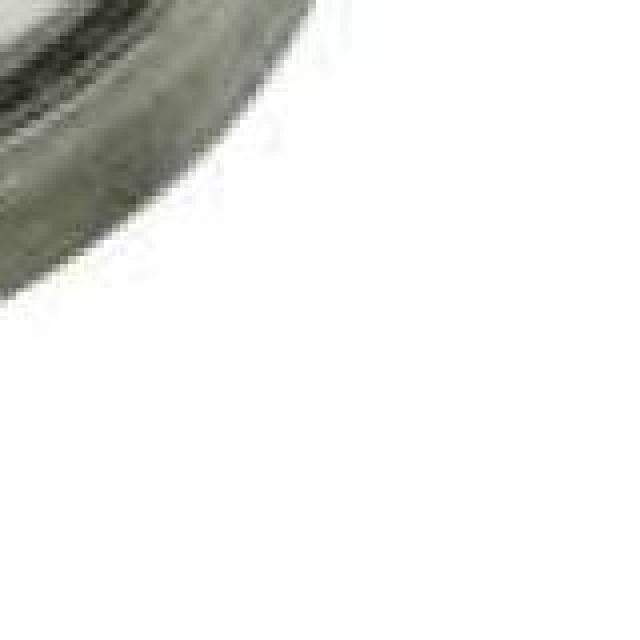battery: (0, 0, 592, 496)
